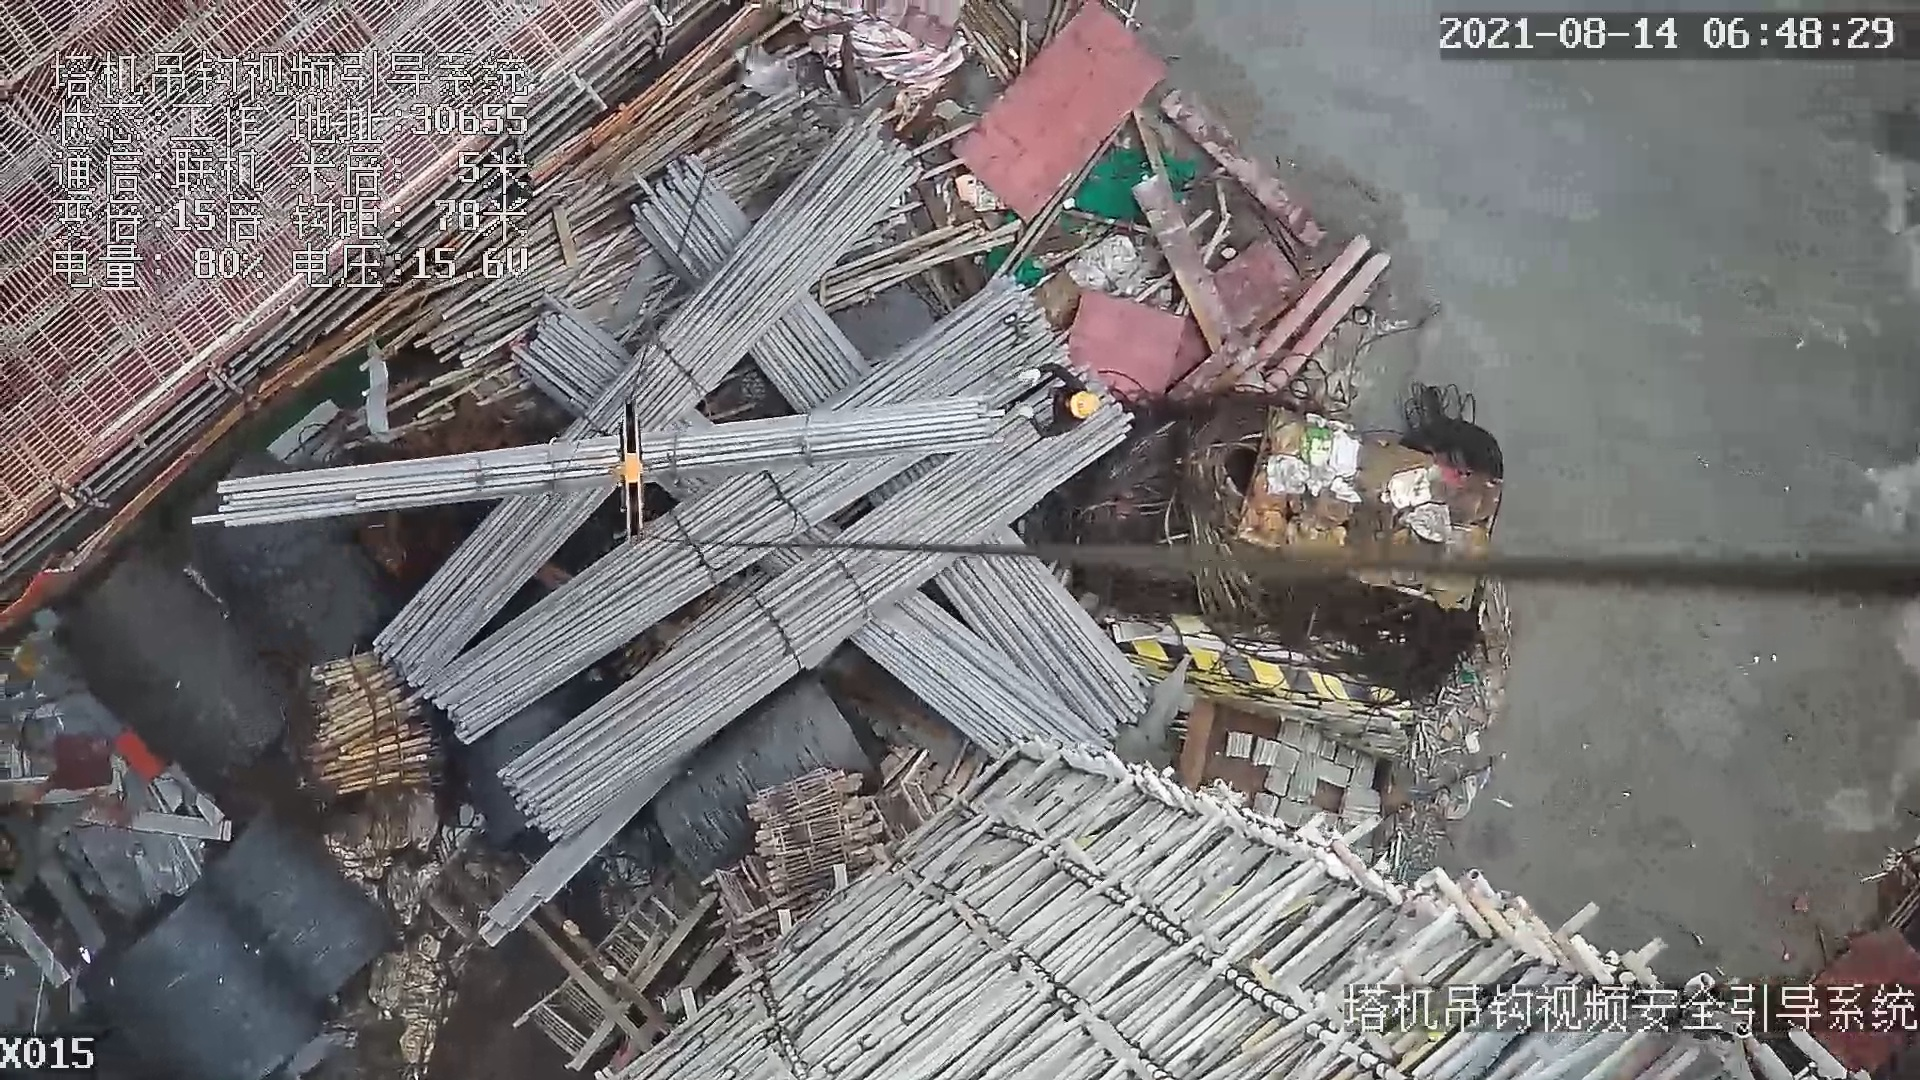board: (948, 2, 1166, 227)
helmet: (1067, 385, 1108, 420)
hook: (610, 395, 649, 542)
person: (1014, 347, 1100, 440)
scaffold: (314, 649, 448, 793)
